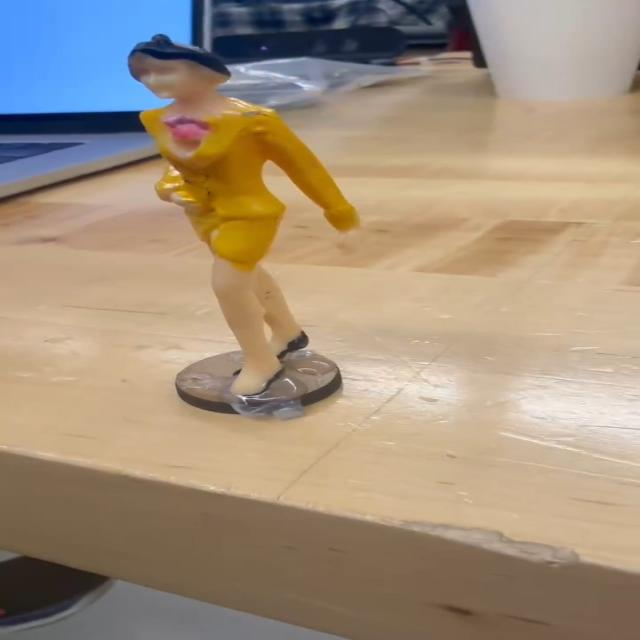Authorized: (105, 32, 376, 404)
